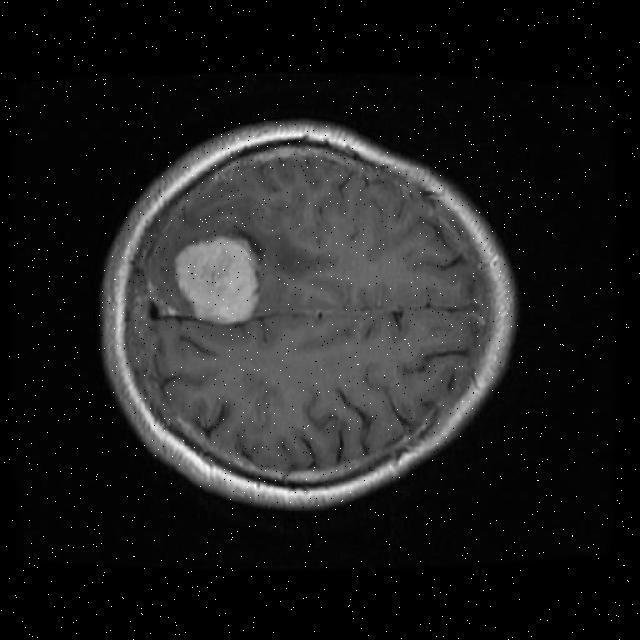Meningioma: (176, 237, 258, 324)
